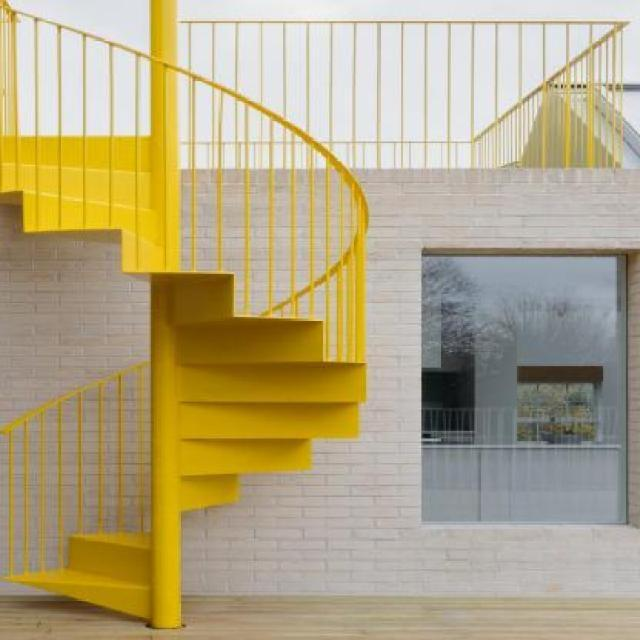stair: (0, 20, 395, 639)
